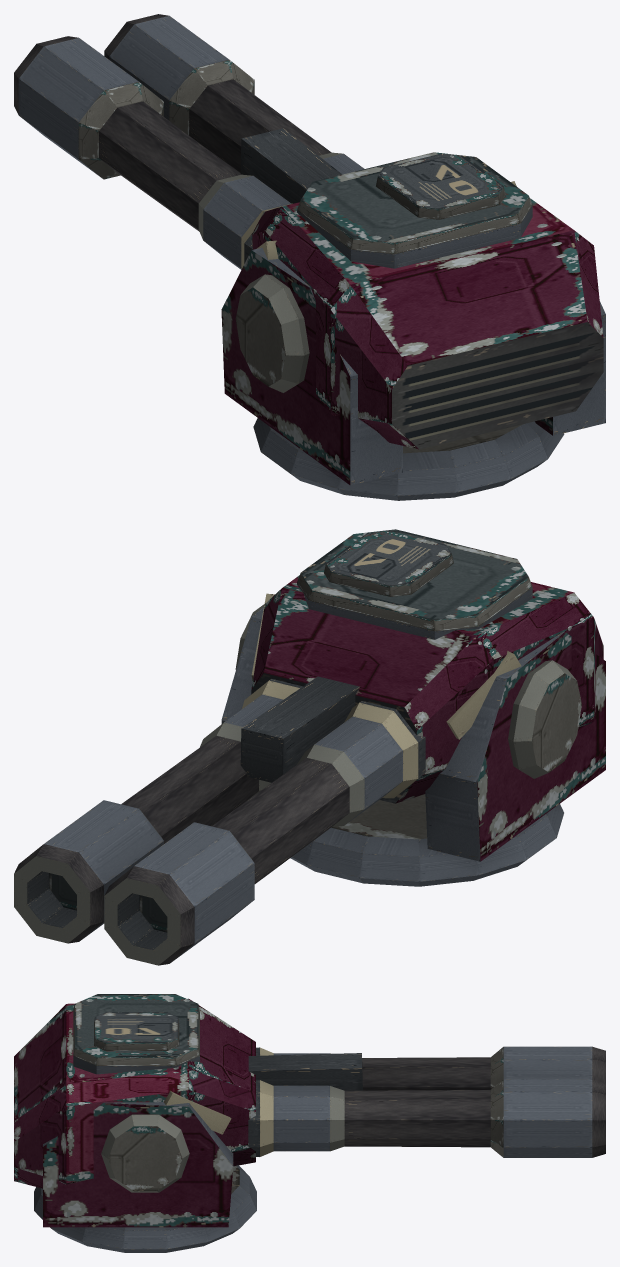
Rendered from ironjaw-broadside.glb.
3 views of the same model, one above another, from view 1: azimuth 30°, elevation 25°; view 2: azimuth 150°, elevation 25°; view 3: azimuth 270°, elevation 25° (orthographic). The views are drawn at different scales.
Parts seen in each view (by area): view 1: pitch plating, yaw plating, broadside plating; view 2: pitch plating, yaw plating, broadside plating; view 3: pitch plating, yaw plating, broadside plating.
Boxes of the visible parts, left/top/right/bottom form: pitch plating: left=14, top=14, right=603, bottom=449; yaw plating: left=221, top=247, right=605, bottom=485; broadside plating: left=253, top=418, right=564, bottom=500; pitch plating: left=14, top=529, right=603, bottom=965; yaw plating: left=221, top=604, right=605, bottom=861; broadside plating: left=290, top=794, right=563, bottom=886; pitch plating: left=14, top=994, right=605, bottom=1188; yaw plating: left=43, top=1102, right=233, bottom=1227; broadside plating: left=34, top=1165, right=256, bottom=1252.
Size of the model in its own units: 3.08 by 2.56 by 7.21.
1 material, 1 textured.
